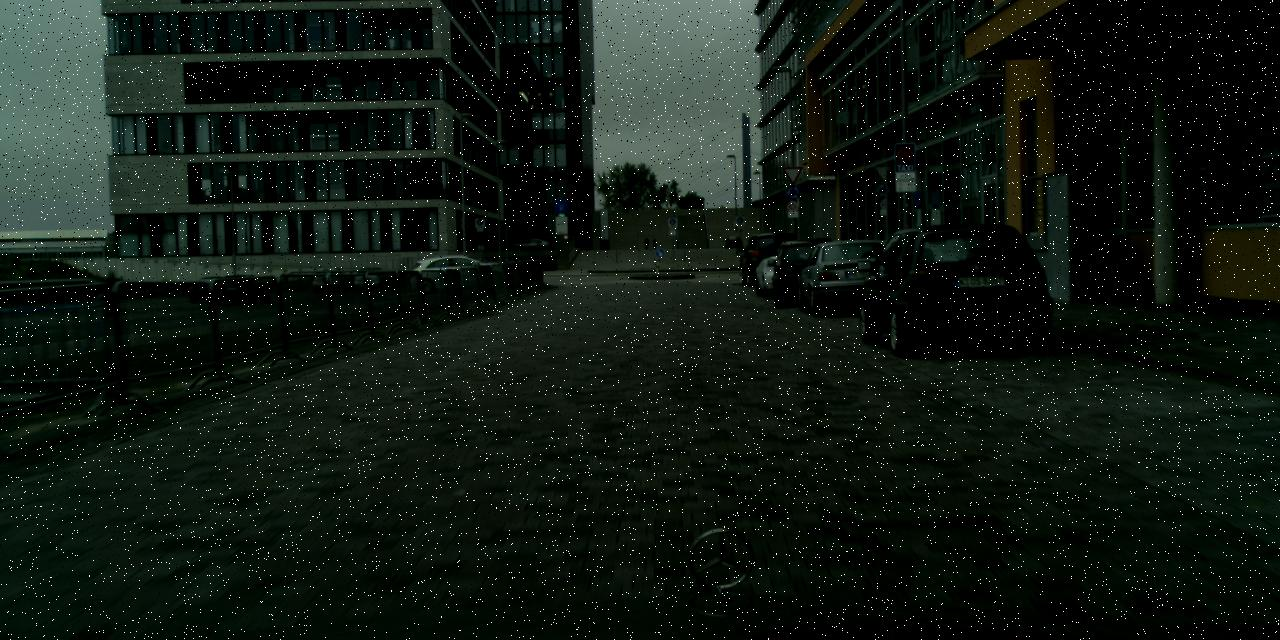ped: (644, 238, 648, 250), (652, 238, 656, 250)
